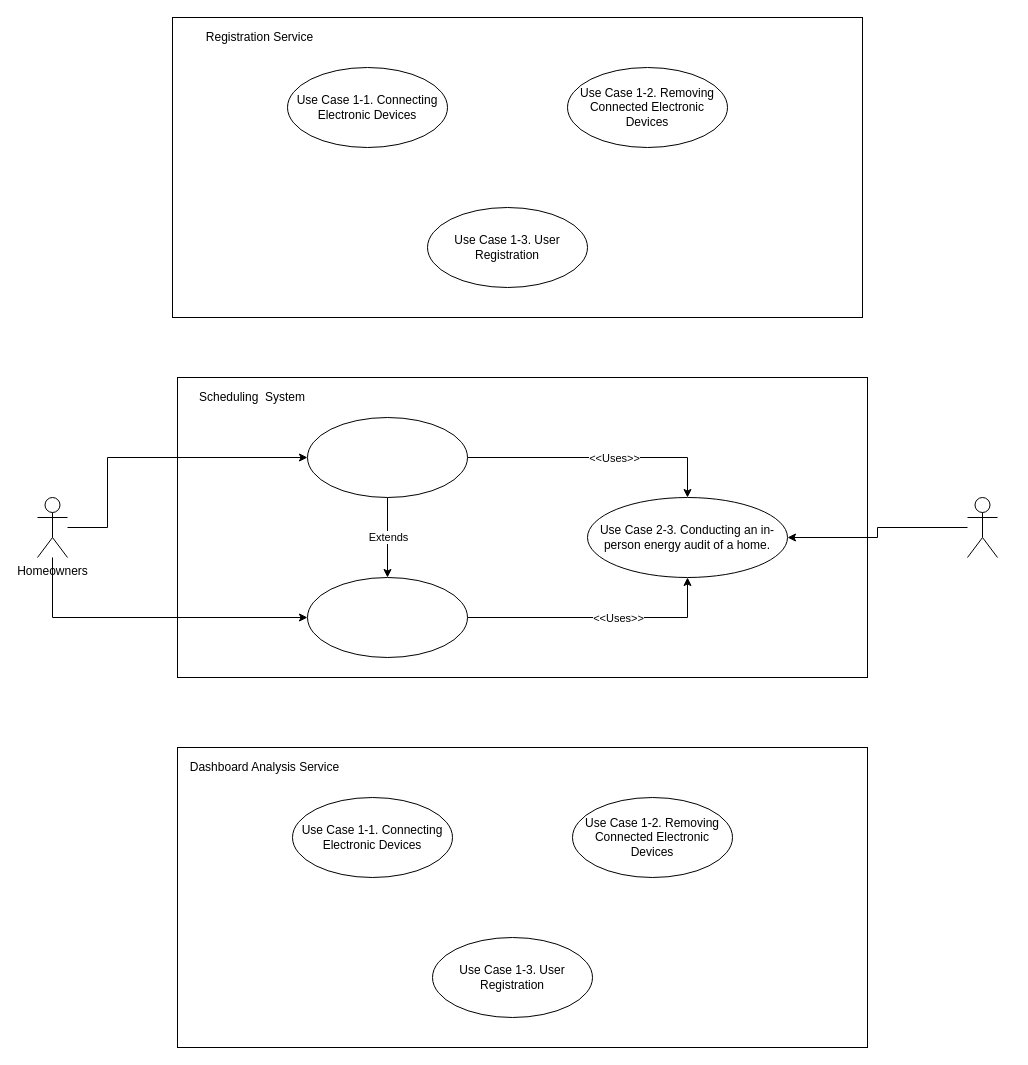
Some shapes in this 1028 by 1065 pixel diagram are drawn without their labels. The box of each missing label's shape, as (x1, y1, x2, y2) in pixels:
Technician: (966, 496, 998, 558)
Use Case 2-1. Scheduling_Appointment: (306, 416, 468, 498)
Use Case 2-2. Modifying a scheduled appointment.: (306, 576, 468, 658)
